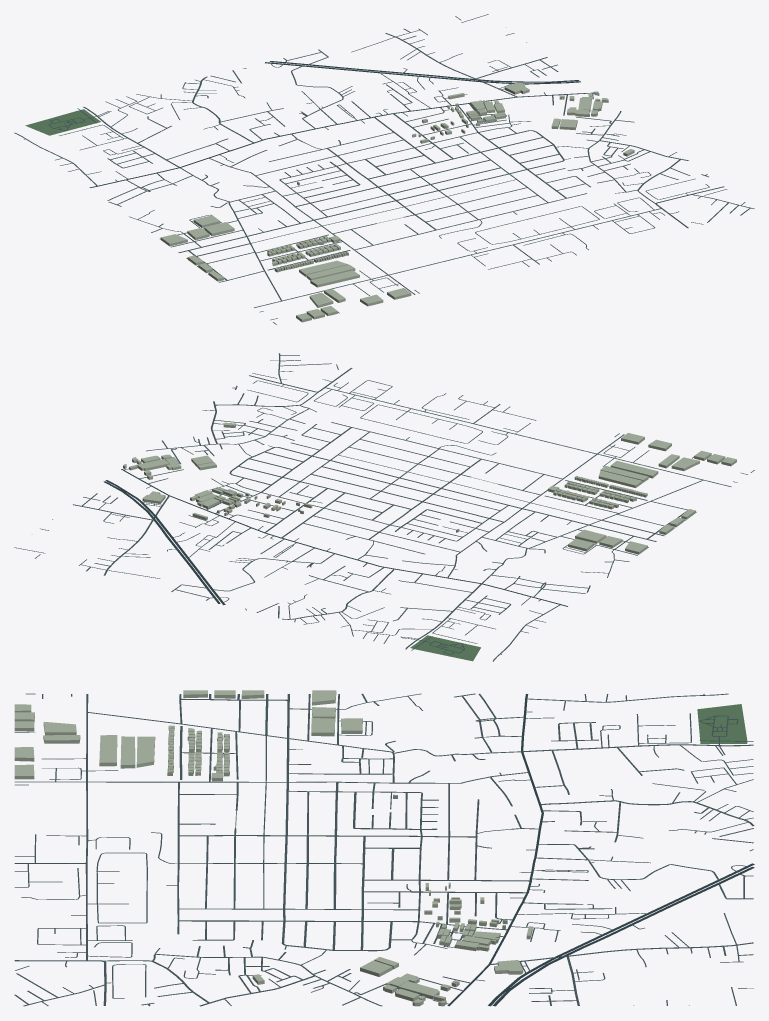
The picture shows the model from 3 angles, top to bottom: view 1: azimuth 30°, elevation 25°; view 2: azimuth 150°, elevation 25°; view 3: azimuth 270°, elevation 25°; orthographic projection. The views are drawn at different scales.
Parts seen in each view (by area): view 1: street, building, major, green; view 2: street, building, major, green; view 3: street, building, major, green.
Boxes of the visible parts, <box> form: street: <box>14,14,754,324</box>; building: <box>160,82,634,322</box>; major: <box>89,61,593,187</box>; green: <box>25,109,100,135</box>; street: <box>14,353,754,661</box>; building: <box>123,422,736,554</box>; major: <box>103,469,567,606</box>; green: <box>410,635,480,661</box>; street: <box>14,693,754,1006</box>; building: <box>14,690,532,1006</box>; major: <box>447,694,754,1006</box>; green: <box>697,704,747,743</box>.
Bounding box in the file's own units: 2005 × 10.57 × 2006.
